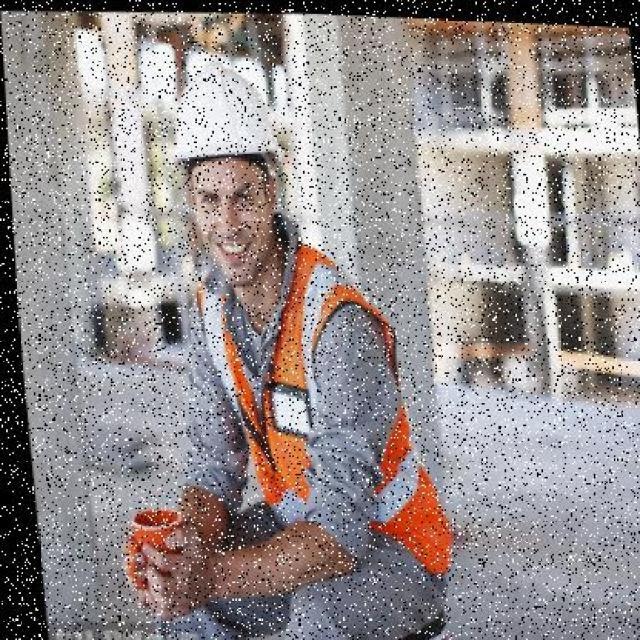helmet: (156, 52, 294, 183)
